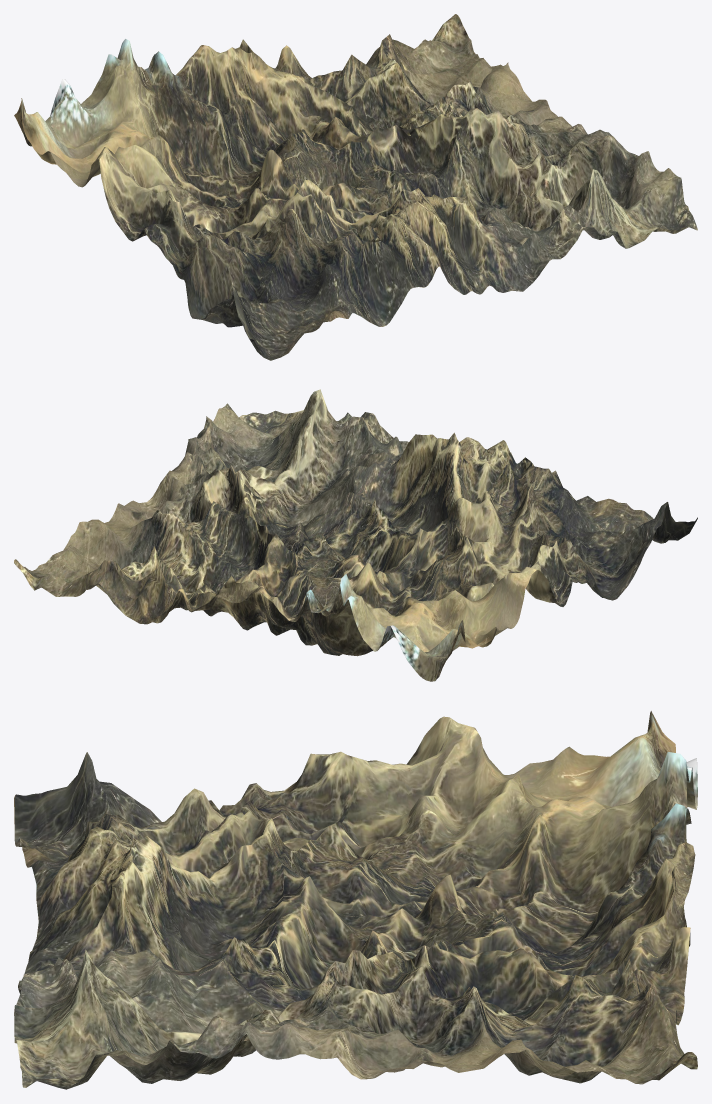
The model's file is landscape02.fbx.
The picture shows the model from 3 angles, top to bottom: view 1: azimuth 30°, elevation 25°; view 2: azimuth 150°, elevation 25°; view 3: azimuth 270°, elevation 25°; orthographic projection. The views are drawn at different scales.
Parts seen in each view (by area): view 1: Relief; view 2: Relief; view 3: Relief.
Boxes of the visible parts, left/top/right/bottom form: Relief: left=14, top=14, right=697, bottom=360; Relief: left=14, top=389, right=697, bottom=681; Relief: left=14, top=711, right=697, bottom=1089.
Size of the model in its own units: 5115 by 1411 by 4954.
